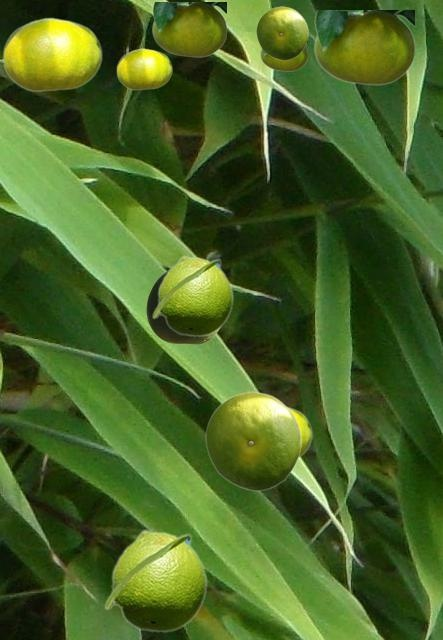dalandan: (103, 529, 207, 632), (205, 391, 300, 490), (2, 17, 101, 91), (314, 10, 413, 84), (151, 255, 233, 336), (146, 271, 219, 343), (152, 2, 225, 56), (256, 6, 307, 59), (116, 48, 171, 89), (288, 406, 311, 458), (260, 46, 306, 70)
